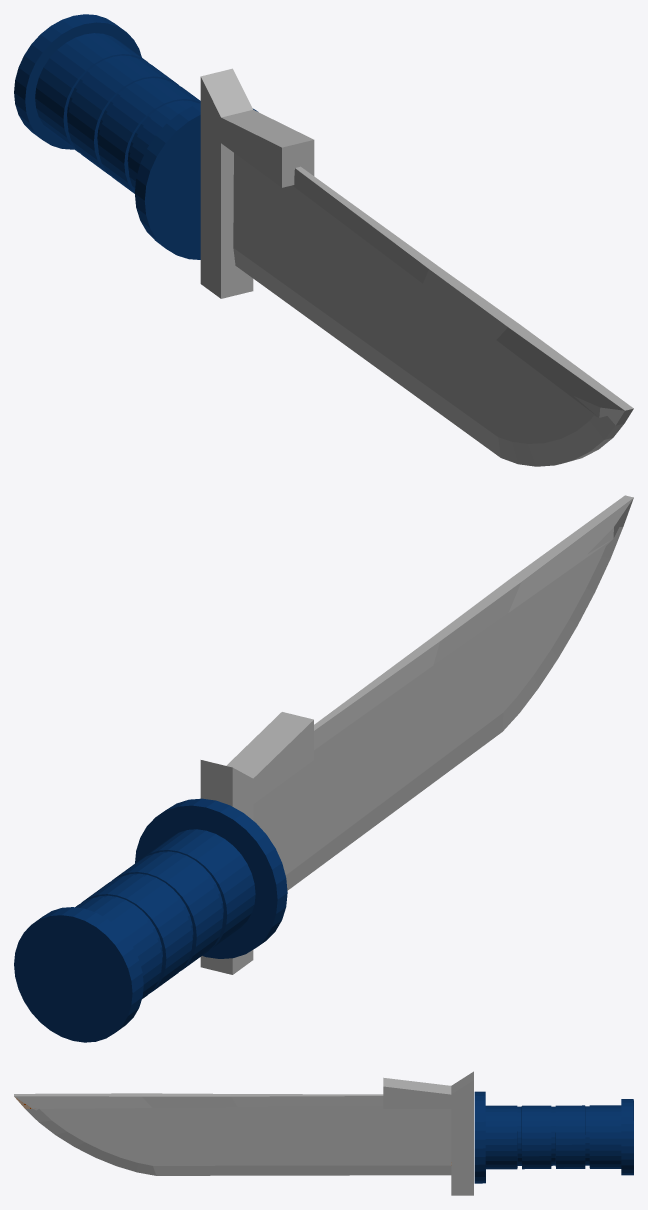
The model's file is knife.fbx.
3 renders of one model, top to bottom at view 1: azimuth 30°, elevation 25°; view 2: azimuth 150°, elevation 25°; view 3: azimuth 270°, elevation 25°, orthographic. The views are drawn at different scales.
Visible parts, largest first — view 1: Cylinder; view 2: Cylinder; view 3: Cylinder.
Boxes of the visible parts, x1=… form: Cylinder: x1=14, y1=14, x2=633, y2=466; Cylinder: x1=14, y1=495, x2=633, y2=1042; Cylinder: x1=14, y1=1071, x2=633, y2=1195.
Size of the model in its own units: 144 by 200 by 972.
Materials: 1 (1 with a texture image).
